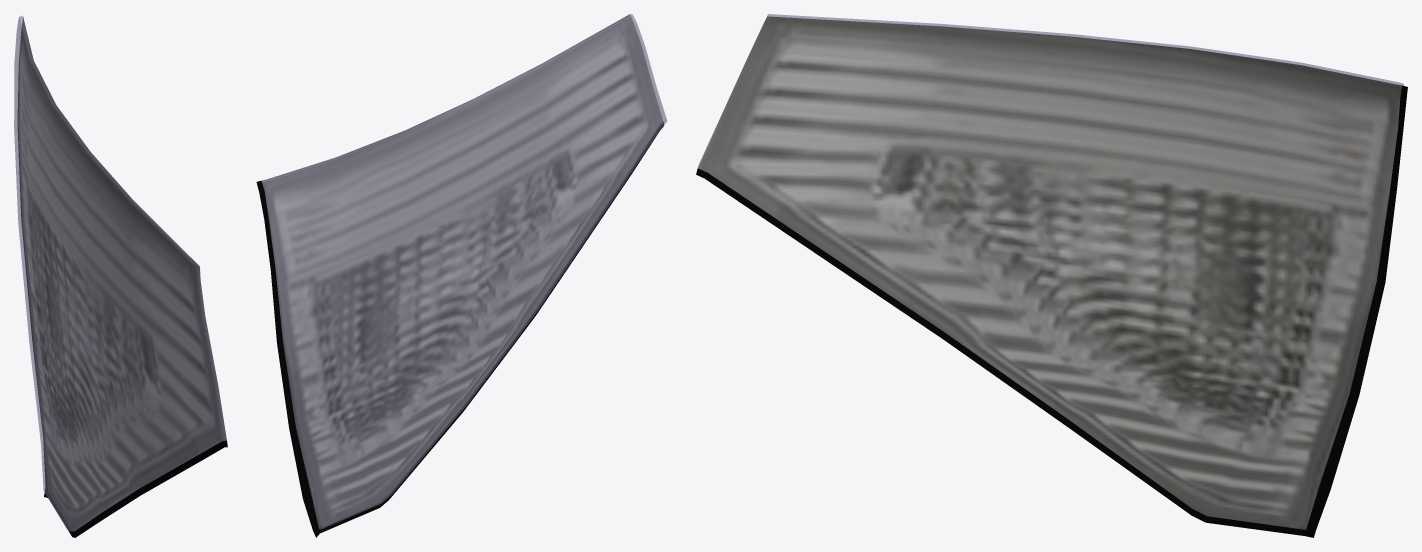
3 views of the same model, side by side, from view 1: azimuth 30°, elevation 25°; view 2: azimuth 150°, elevation 25°; view 3: azimuth 270°, elevation 25° (orthographic). The views are drawn at different scales.
Visible parts, largest first — view 1: F183_541D_L_1_DTaSI_F183_541D_L, F183_541D_L_F183_541D_L_2_N, F183_541D_L_F183_541D_L_3_D; view 2: F183_541D_L_1_DTaSI_F183_541D_L, F183_541D_L_F183_541D_L_2_N, F183_541D_L_F183_541D_L_3_D; view 3: F183_541D_L_F183_541D_L_2_N, F183_541D_L_F183_541D_L_3_D, F183_541D_L_1_DTaSI_F183_541D_L.
Part boxes in pixels (left/top/right/bottom): F183_541D_L_1_DTaSI_F183_541D_L: left=14, top=16, right=226, bottom=531; F183_541D_L_F183_541D_L_2_N: left=18, top=17, right=226, bottom=530; F183_541D_L_F183_541D_L_3_D: left=18, top=91, right=227, bottom=537; F183_541D_L_1_DTaSI_F183_541D_L: left=262, top=14, right=667, bottom=529; F183_541D_L_F183_541D_L_2_N: left=261, top=14, right=663, bottom=528; F183_541D_L_F183_541D_L_3_D: left=256, top=122, right=663, bottom=537; F183_541D_L_F183_541D_L_2_N: left=698, top=16, right=1401, bottom=529; F183_541D_L_F183_541D_L_3_D: left=696, top=85, right=1407, bottom=537; F183_541D_L_1_DTaSI_F183_541D_L: left=698, top=14, right=1403, bottom=166.
Size of the model in its own units: 7.79 by 23.51 by 32.38.
